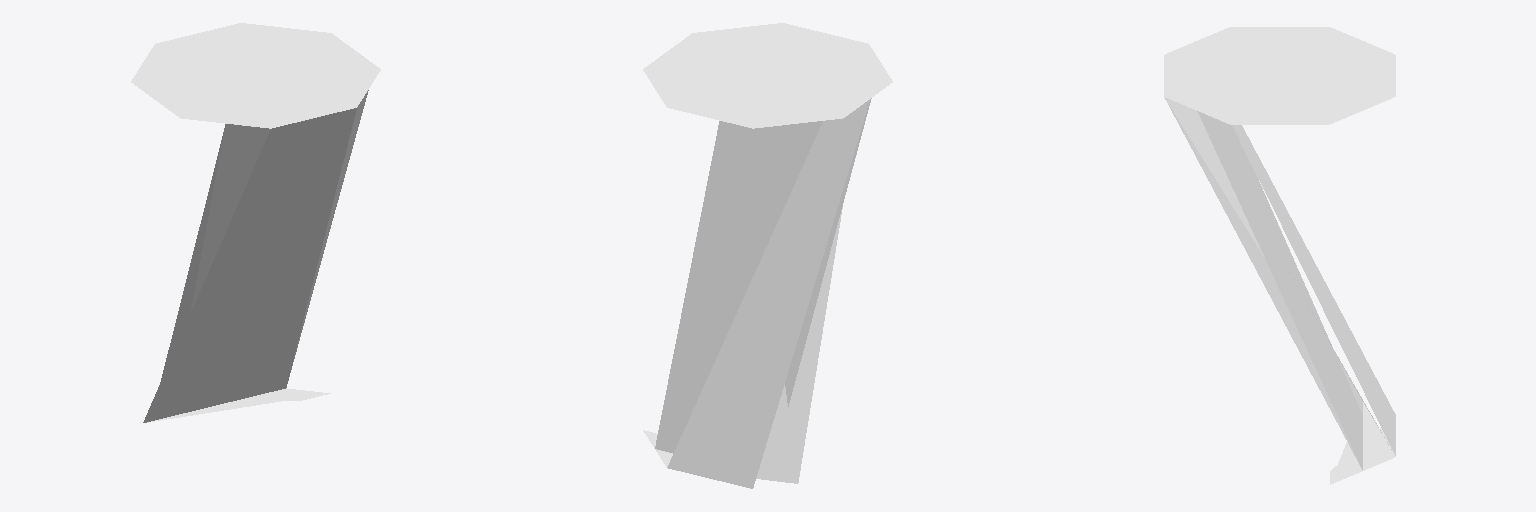
File: explosivebarrel.obj
The picture shows the model from 3 angles: view 1: azimuth 30°, elevation 25°; view 2: azimuth 150°, elevation 25°; view 3: azimuth 270°, elevation 25°; orthographic projection.
Bounding box in the file's own units: 7 × 12 × 7.